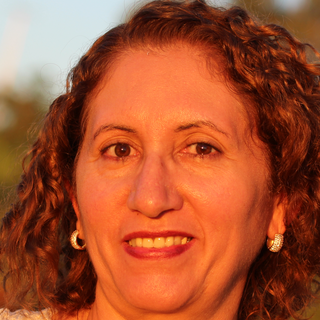eye: (181, 138, 227, 162), (99, 139, 142, 162)
